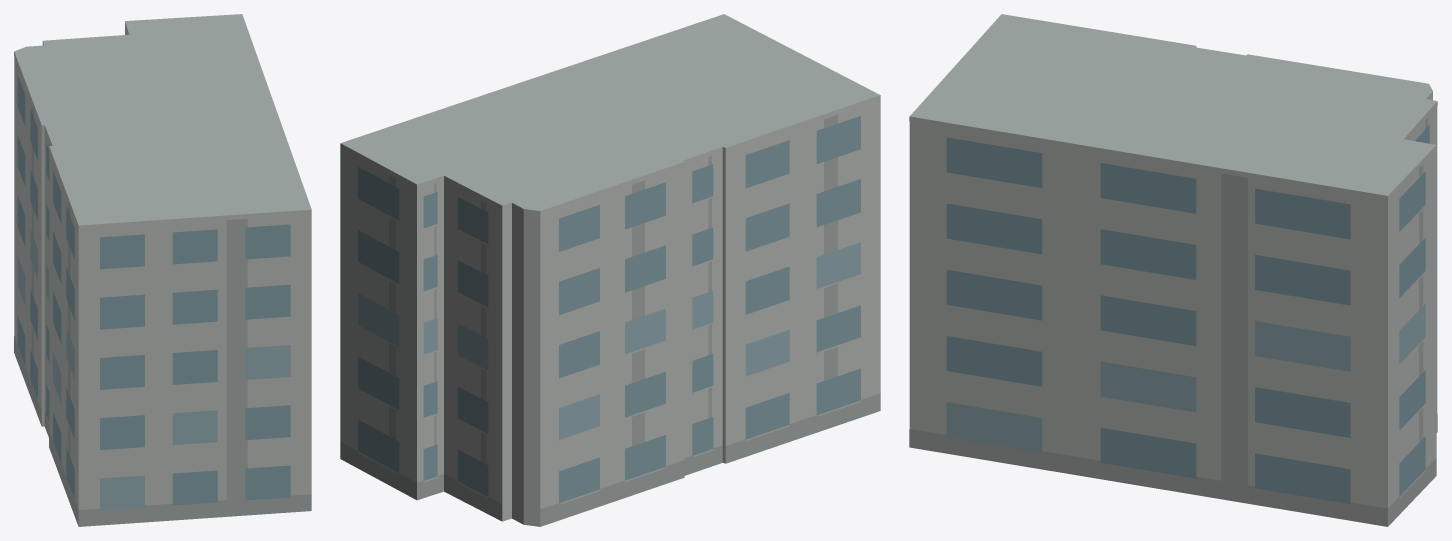
Rendered from survey-upis-32813105.glb.
3 renders of one model, left to right at view 1: azimuth 30°, elevation 25°; view 2: azimuth 150°, elevation 25°; view 3: azimuth 270°, elevation 25°, orthographic. The views are drawn at different scales.
Visible parts, largest first — view 1: survey-upis-32813105.tmp; view 2: survey-upis-32813105.tmp; view 3: survey-upis-32813105.tmp.
Part boxes in pixels (x1,y1,x2,y2): survey-upis-32813105.tmp: (14,14,311,526); survey-upis-32813105.tmp: (340,14,880,526); survey-upis-32813105.tmp: (909,14,1437,526).
Bounding box in the file's own units: 18.05 × 15.3 × 22.13.
